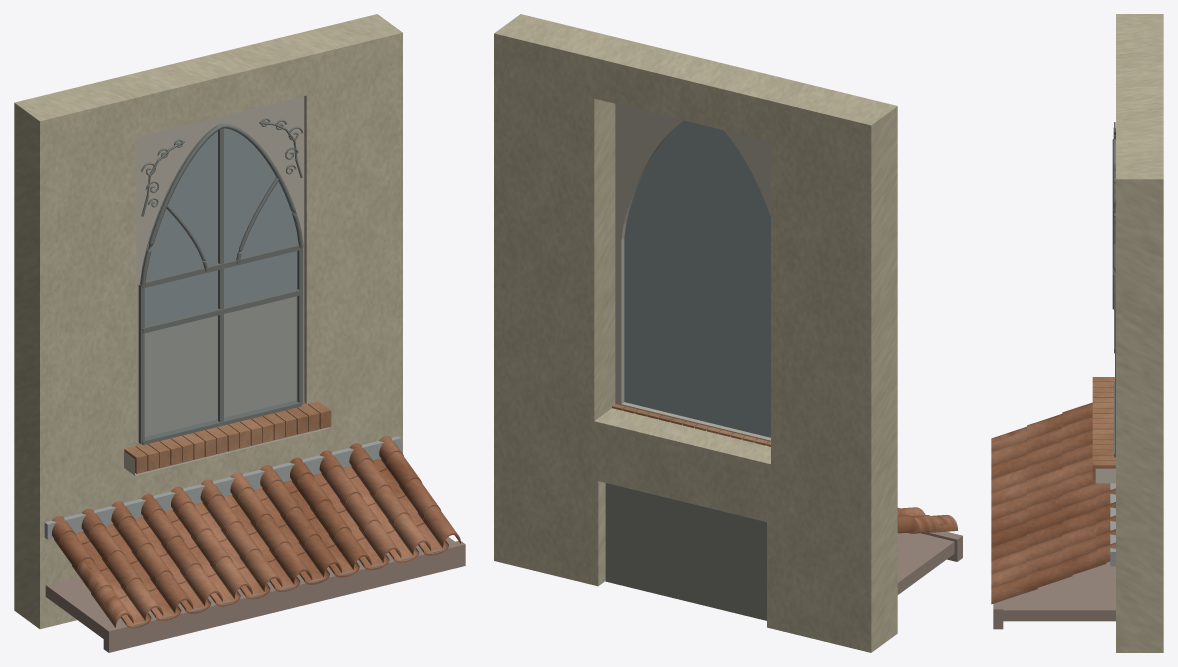
Rendered from choumou-lane-67-iron-window-and-pantile-awning-near.glb.
3 renders of one model, left to right at view 1: azimuth 30°, elevation 25°; view 2: azimuth 150°, elevation 25°; view 3: azimuth 270°, elevation 25°, orthographic. The views are drawn at different scales.
Visible parts, largest first — view 1: 绸缪村67号北入口铁花窗与筒瓦雨厦; view 2: 绸缪村67号北入口铁花窗与筒瓦雨厦; view 3: 绸缪村67号北入口铁花窗与筒瓦雨厦.
Part boxes in pixels (left/top/right/bottom): 绸缪村67号北入口铁花窗与筒瓦雨厦: left=14, top=14, right=465, bottom=652; 绸缪村67号北入口铁花窗与筒瓦雨厦: left=494, top=14, right=962, bottom=652; 绸缪村67号北入口铁花窗与筒瓦雨厦: left=991, top=14, right=1163, bottom=652.
Bounding box in the file's own units: 3.44 × 4.6 × 1.52.
Materials: 11 (3 with a texture image).
